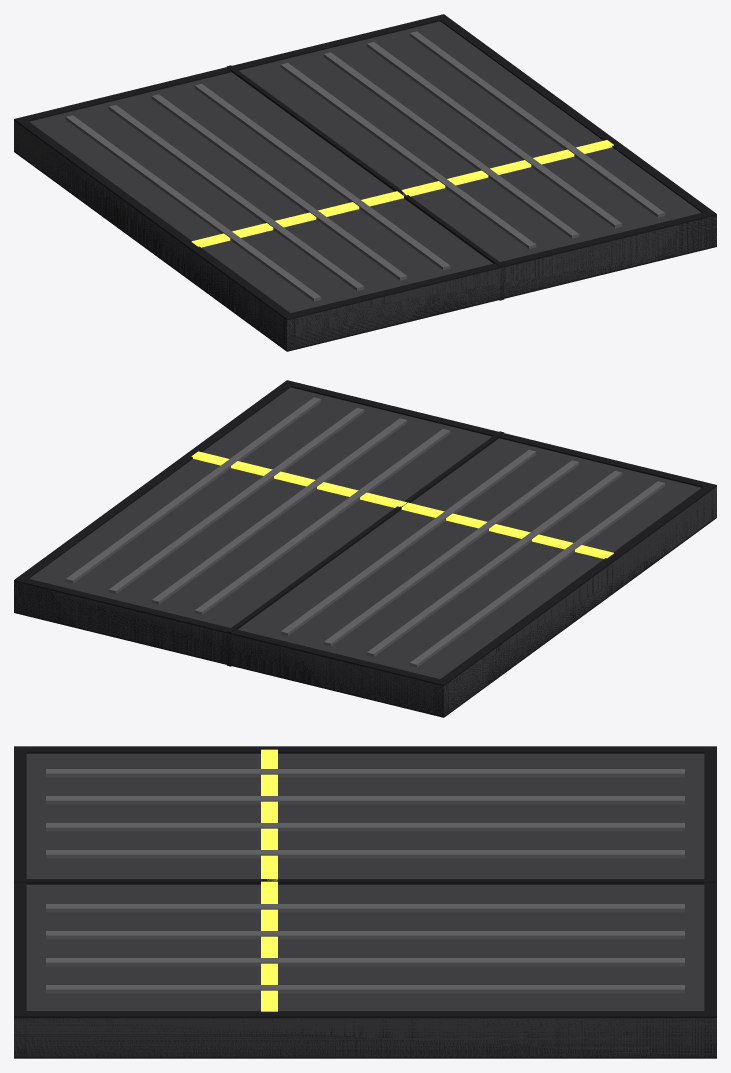
The model's file is Door_Panel.glb.
3 renders of one model, top to bottom at view 1: azimuth 30°, elevation 25°; view 2: azimuth 150°, elevation 25°; view 3: azimuth 270°, elevation 25°, orthographic. The views are drawn at different scales.
Visible parts, largest first — view 1: Door_Panel; view 2: Door_Panel; view 3: Door_Panel.
Part boxes in pixels (<box>): Door_Panel: <box>14,14,716,351</box>; Door_Panel: <box>14,380,716,717</box>; Door_Panel: <box>14,746,716,1058</box>.
Size of the model in its own units: 3 by 0.24 by 3.3.
